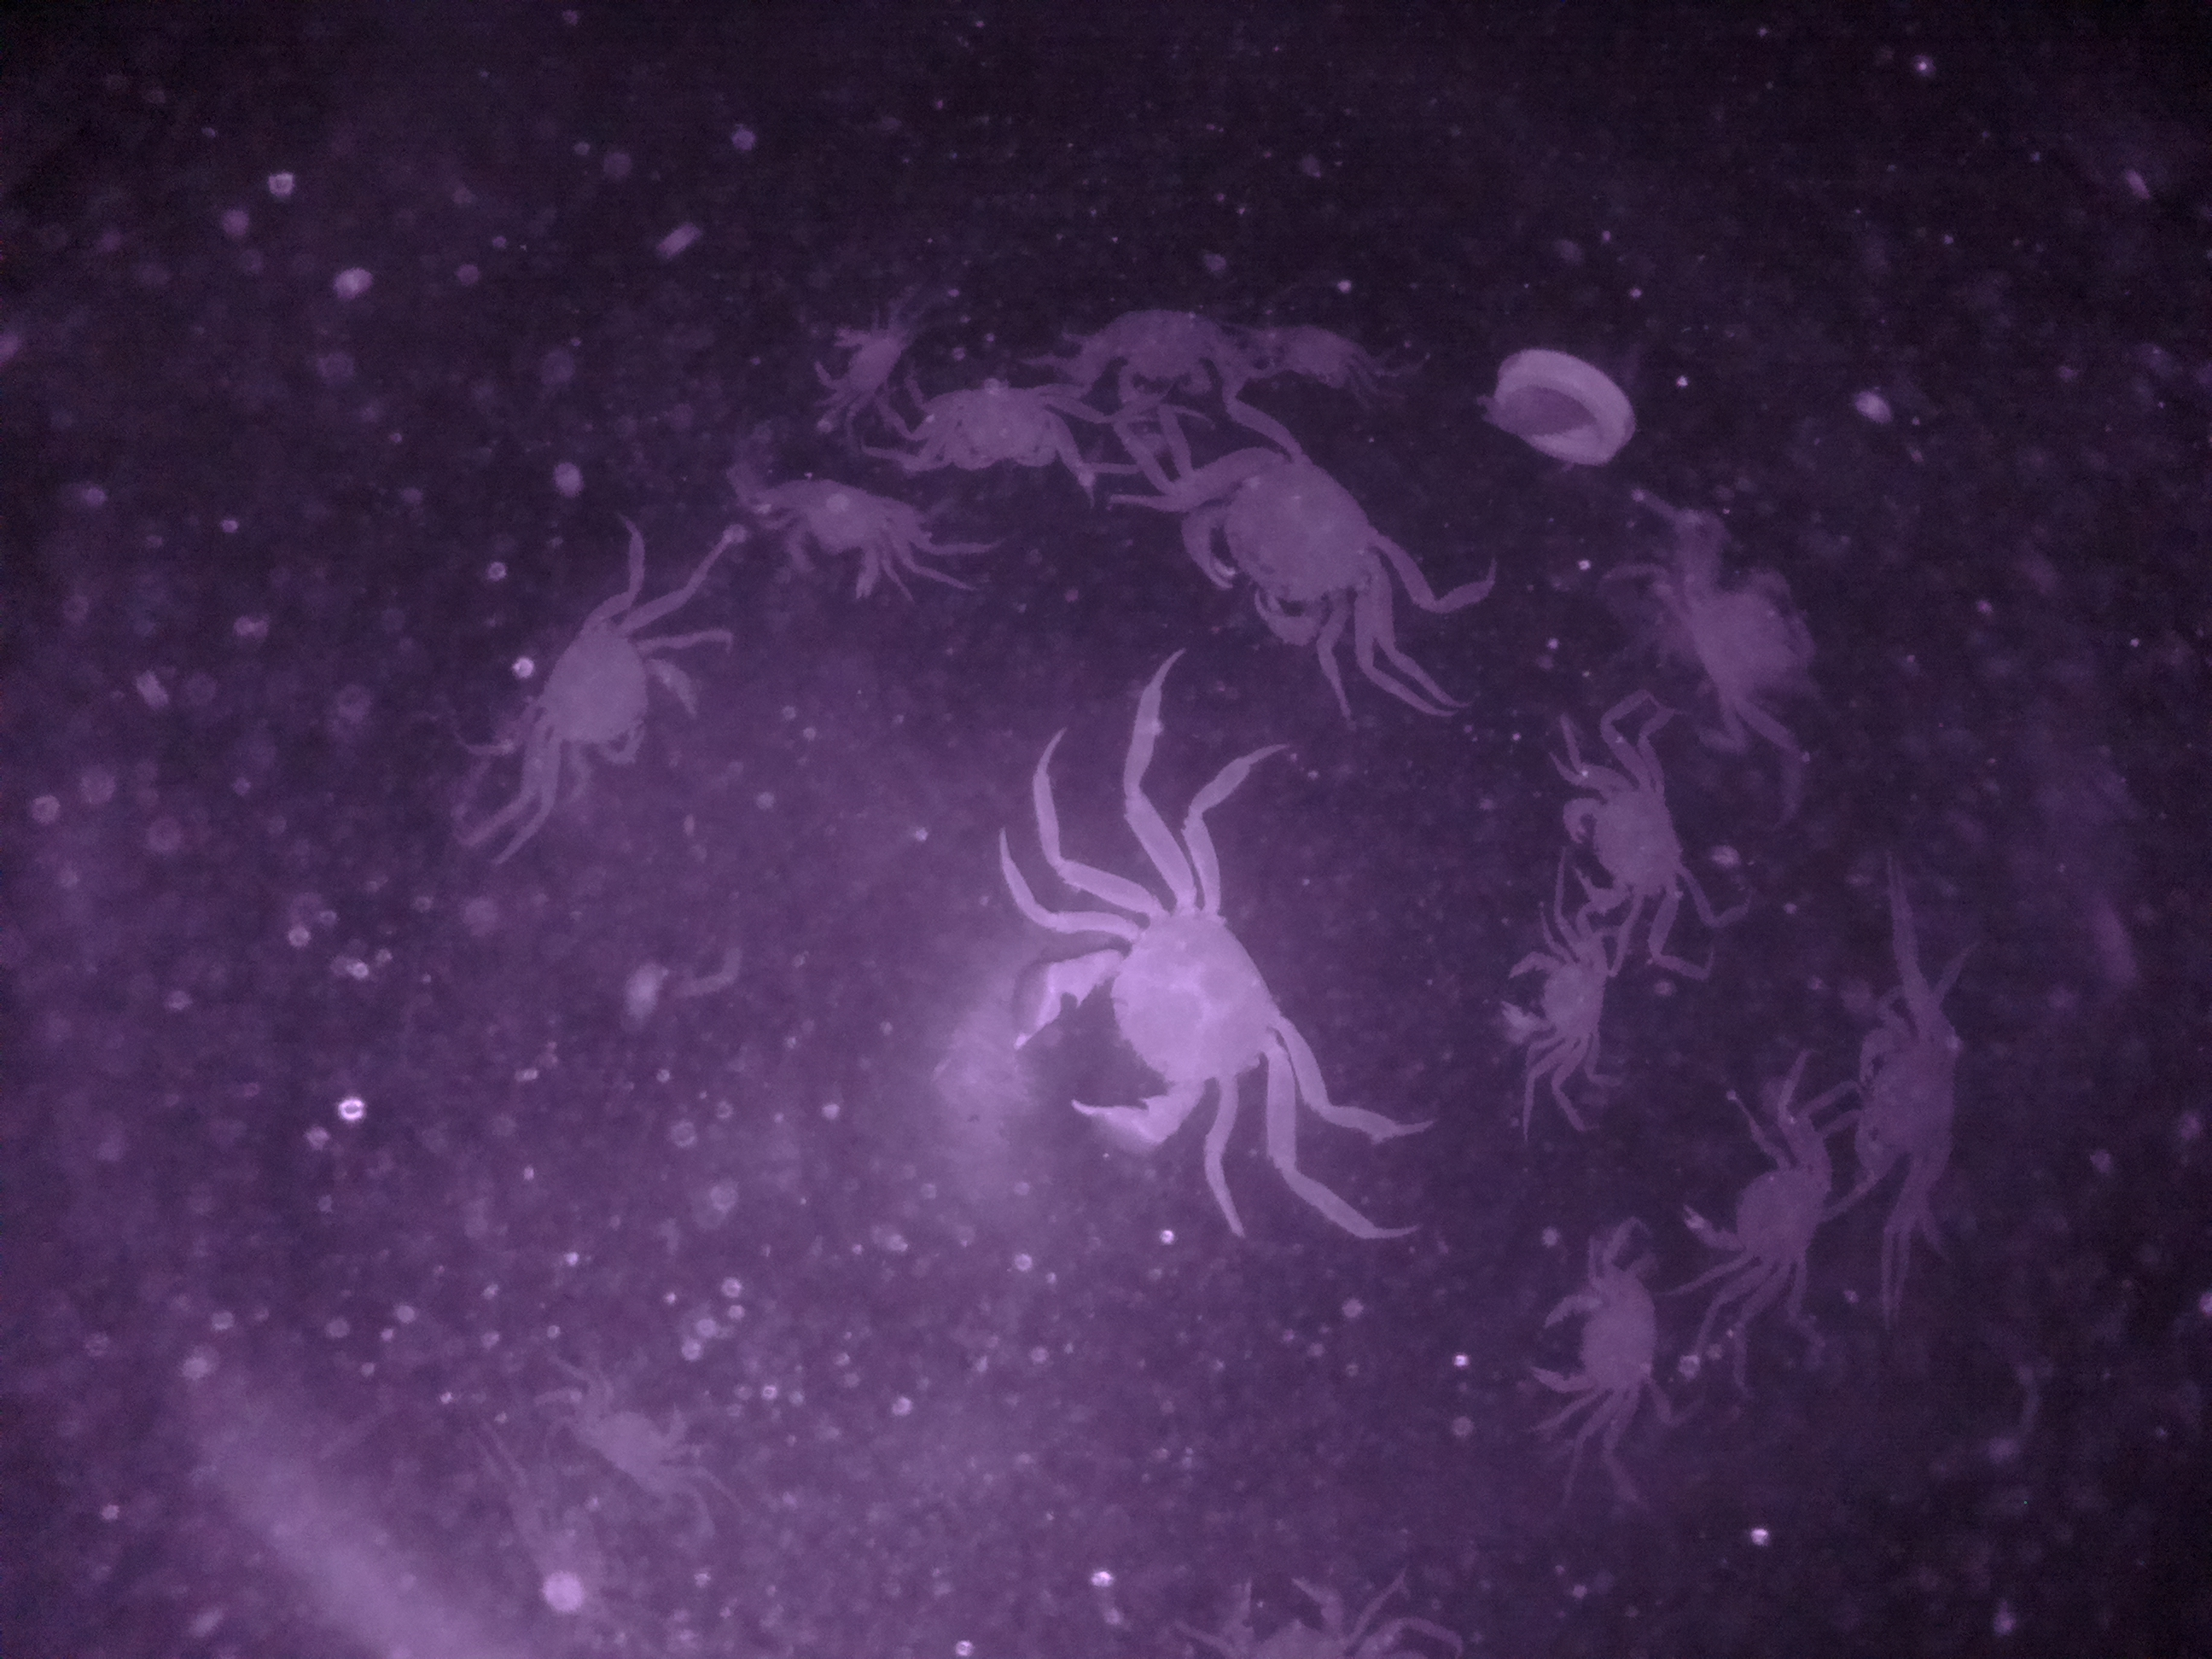Crab: (993, 857, 1301, 1162), (1160, 413, 1409, 671), (502, 591, 721, 803), (1834, 999, 1986, 1220), (1683, 1100, 1836, 1314), (1550, 753, 1712, 936), (744, 464, 941, 610), (1505, 1263, 1669, 1432), (890, 364, 1103, 481), (1496, 918, 1630, 1087)
